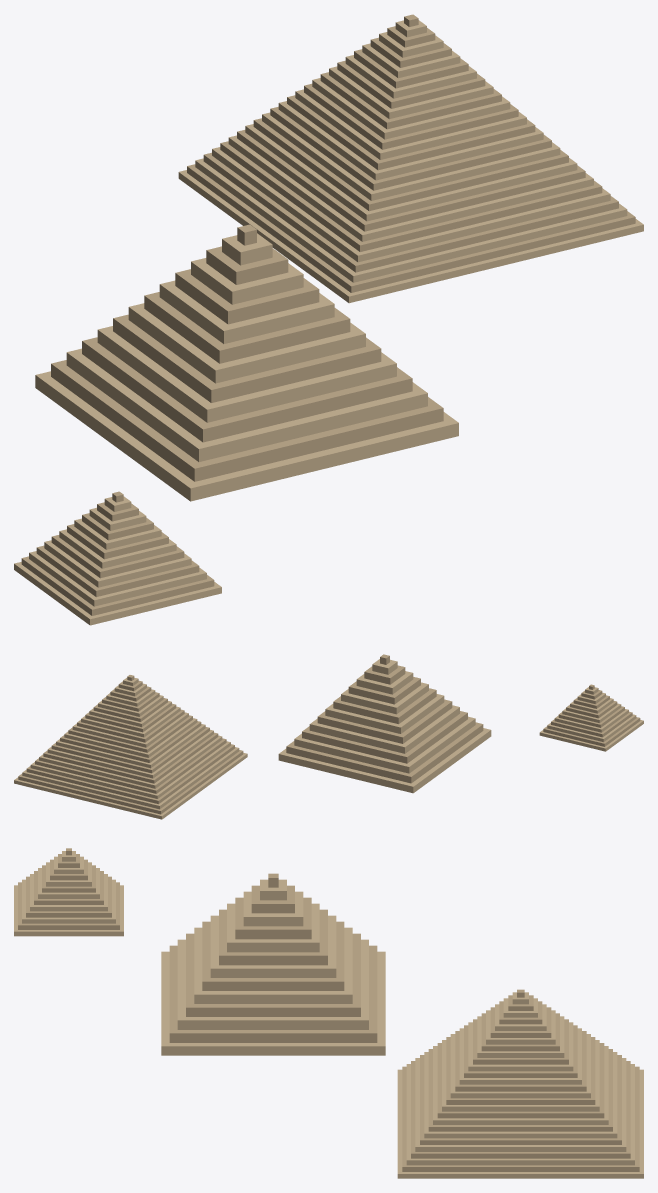
File: giza-pyramids.glb
3 renders of one model, top to bottom at view 1: azimuth 30°, elevation 25°; view 2: azimuth 150°, elevation 25°; view 3: azimuth 270°, elevation 25°, orthographic. The views are drawn at different scales.
Visible parts, largest first — view 1: giza-pyramids_mesh; view 2: giza-pyramids_mesh; view 3: giza-pyramids_mesh.
Part boxes in pixels (<box>): giza-pyramids_mesh: <box>14,14,643,625</box>; giza-pyramids_mesh: <box>14,654,643,819</box>; giza-pyramids_mesh: <box>14,848,643,1178</box>.
Size of the model in its own units: 636 by 139 by 586.
